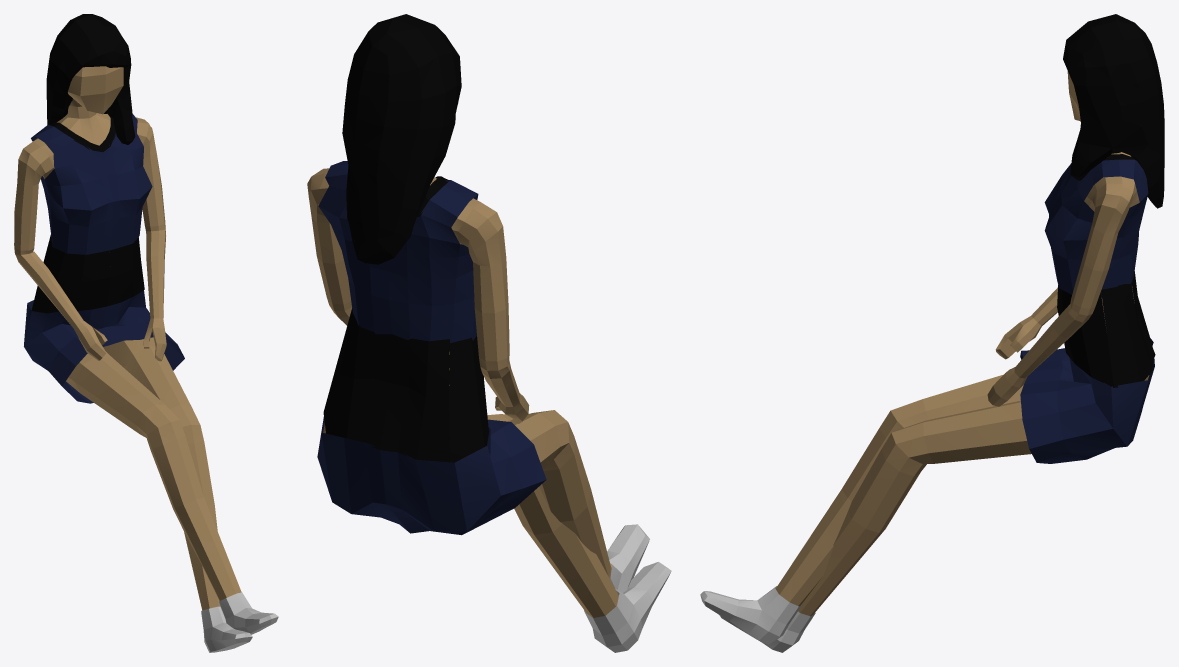
The model's file is mujer.glb.
3 renders of one model, left to right at view 1: azimuth 30°, elevation 25°; view 2: azimuth 150°, elevation 25°; view 3: azimuth 270°, elevation 25°, orthographic. The views are drawn at different scales.
Parts seen in each view (by area): view 1: Low_poly_Girl5:girl, Low_poly_Girl5:dress, Low_poly_Girl5:hair, Low_poly_Girl5:dress_1, shoes; view 2: Low_poly_Girl5:dress, Low_poly_Girl5:girl, Low_poly_Girl5:hair, Low_poly_Girl5:dress_1, shoes; view 3: Low_poly_Girl5:girl, Low_poly_Girl5:dress, Low_poly_Girl5:hair, Low_poly_Girl5:dress_1, shoes.
Part boxes in pixels (bbox=[...]): Low_poly_Girl5:girl: bbox=[14, 66, 241, 610]; Low_poly_Girl5:dress: bbox=[24, 113, 184, 403]; Low_poly_Girl5:hair: bbox=[46, 14, 135, 144]; Low_poly_Girl5:dress_1: bbox=[31, 114, 144, 313]; shoes: bbox=[201, 592, 278, 652]; Low_poly_Girl5:dress: bbox=[317, 161, 546, 535]; Low_poly_Girl5:girl: bbox=[307, 103, 618, 617]; Low_poly_Girl5:hair: bbox=[342, 14, 461, 264]; Low_poly_Girl5:dress_1: bbox=[323, 176, 488, 462]; shoes: bbox=[584, 524, 671, 652]; Low_poly_Girl5:girl: bbox=[775, 71, 1149, 616]; Low_poly_Girl5:dress: bbox=[1020, 159, 1154, 463]; Low_poly_Girl5:hair: bbox=[1063, 14, 1164, 208]; Low_poly_Girl5:dress_1: bbox=[1057, 154, 1155, 387]; shoes: bbox=[700, 586, 815, 652].
Size of the model in its own units: 0.335 by 1.24 by 0.8193.
